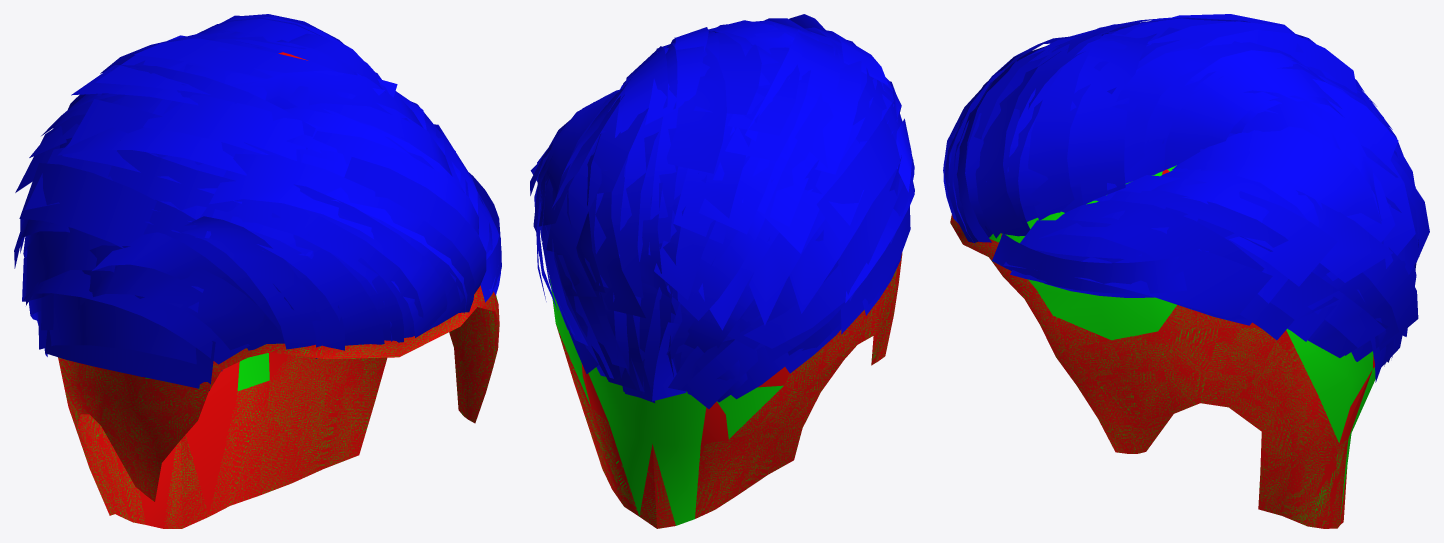
Rendered from hair_011.obj.
3 renders of one model, left to right at view 1: azimuth 30°, elevation 25°; view 2: azimuth 150°, elevation 25°; view 3: azimuth 270°, elevation 25°, orthographic. The views are drawn at different scales.
Size of the model in its own units: 18.01 by 22.79 by 20.77.
